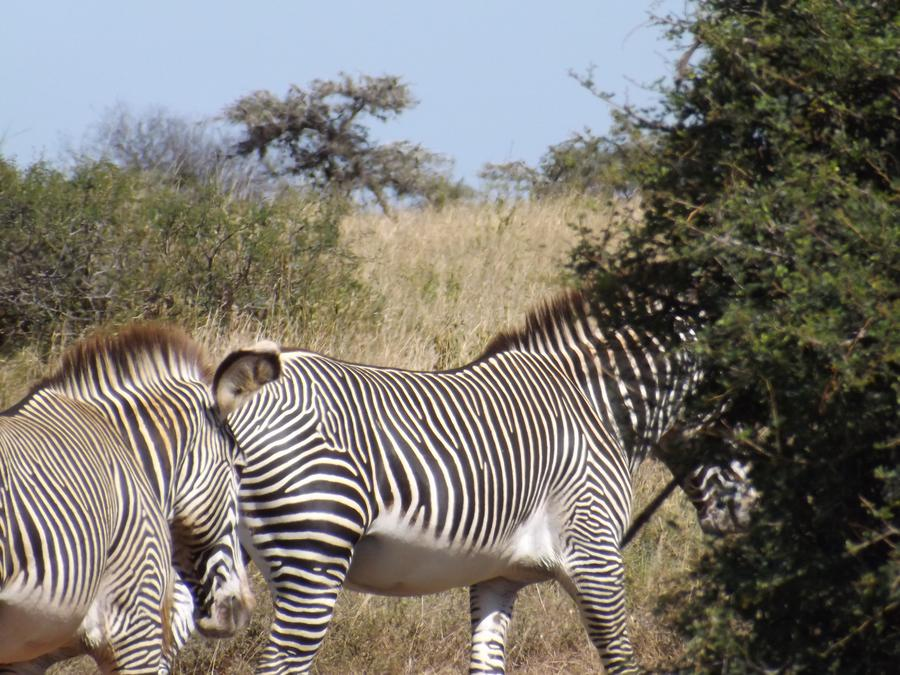zebra_grevys: (273, 320, 623, 561)
